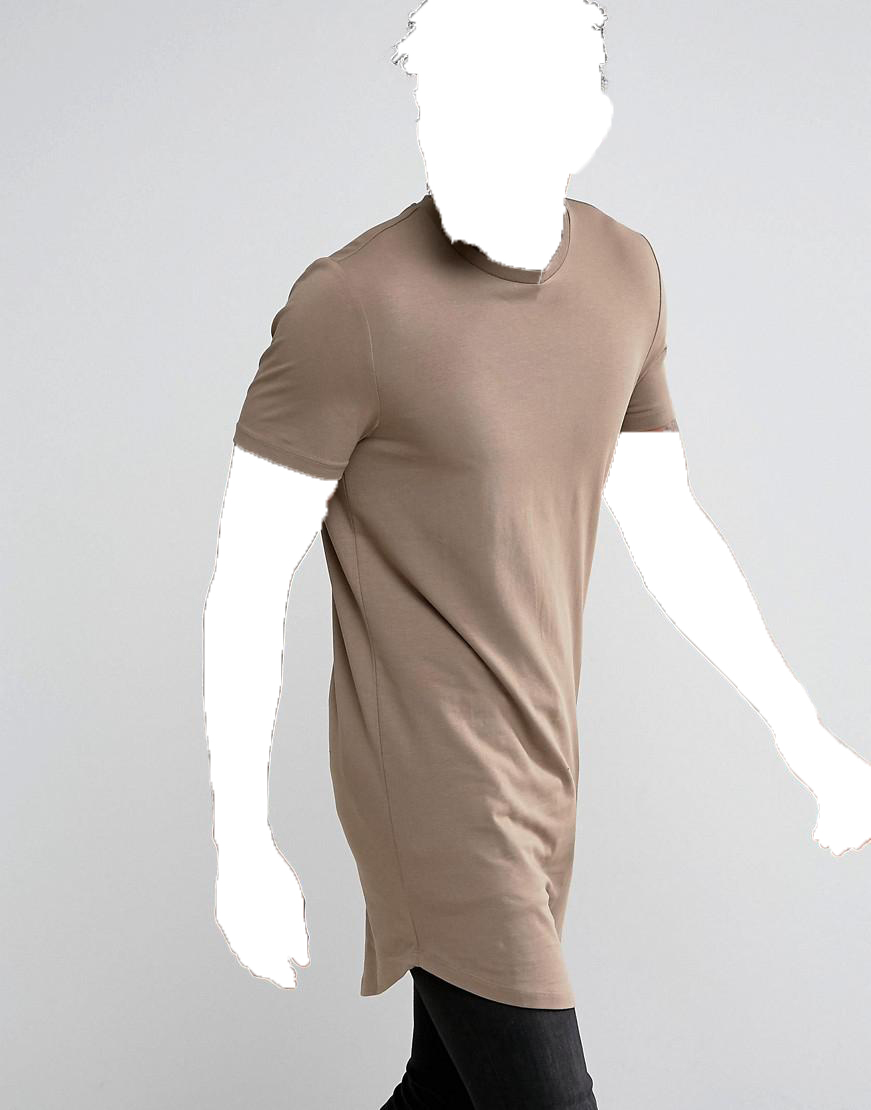teeshirt: (262, 201, 712, 1025)
